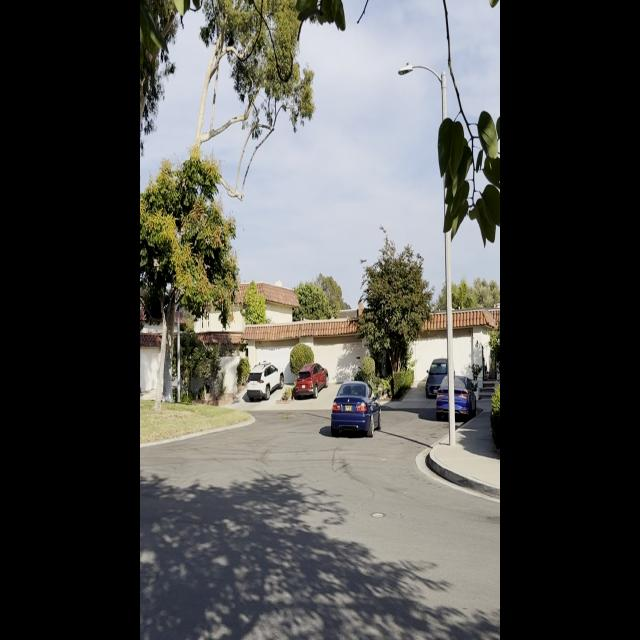Carbeetle: (316, 370, 385, 454)
Civilian: (436, 375, 475, 421), (246, 362, 285, 401), (426, 351, 457, 398), (292, 364, 324, 399)
